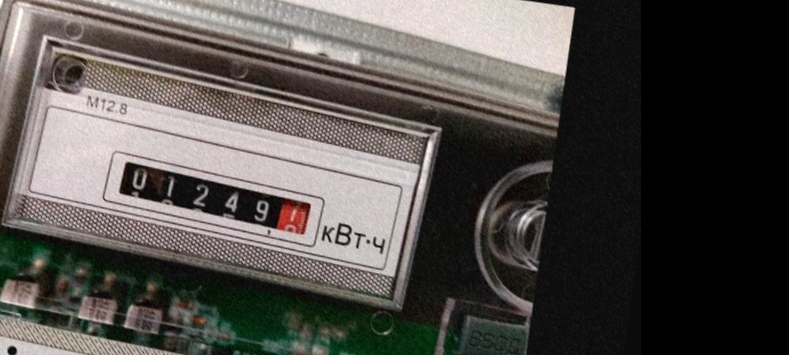0: (130, 164, 150, 193)
1: (161, 172, 179, 200)
2: (190, 182, 211, 210)
4: (223, 188, 242, 215)
7: (286, 198, 304, 225)
9: (251, 197, 271, 225)
screen: (98, 149, 330, 252)
